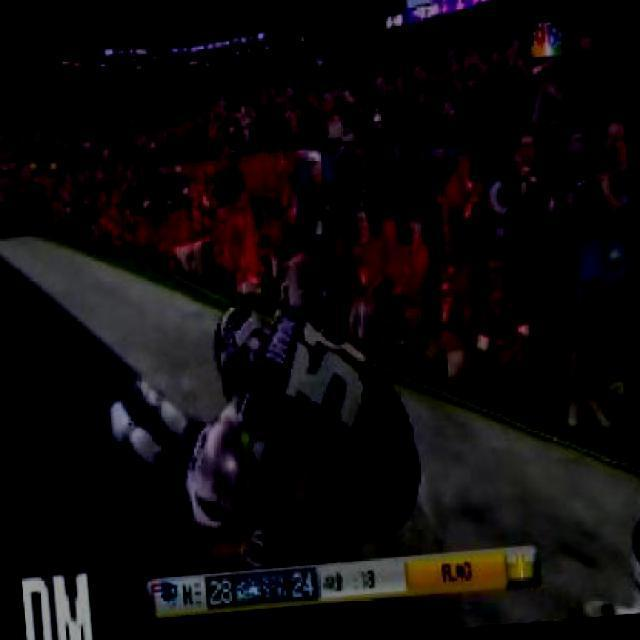fight: (92, 286, 430, 577)
